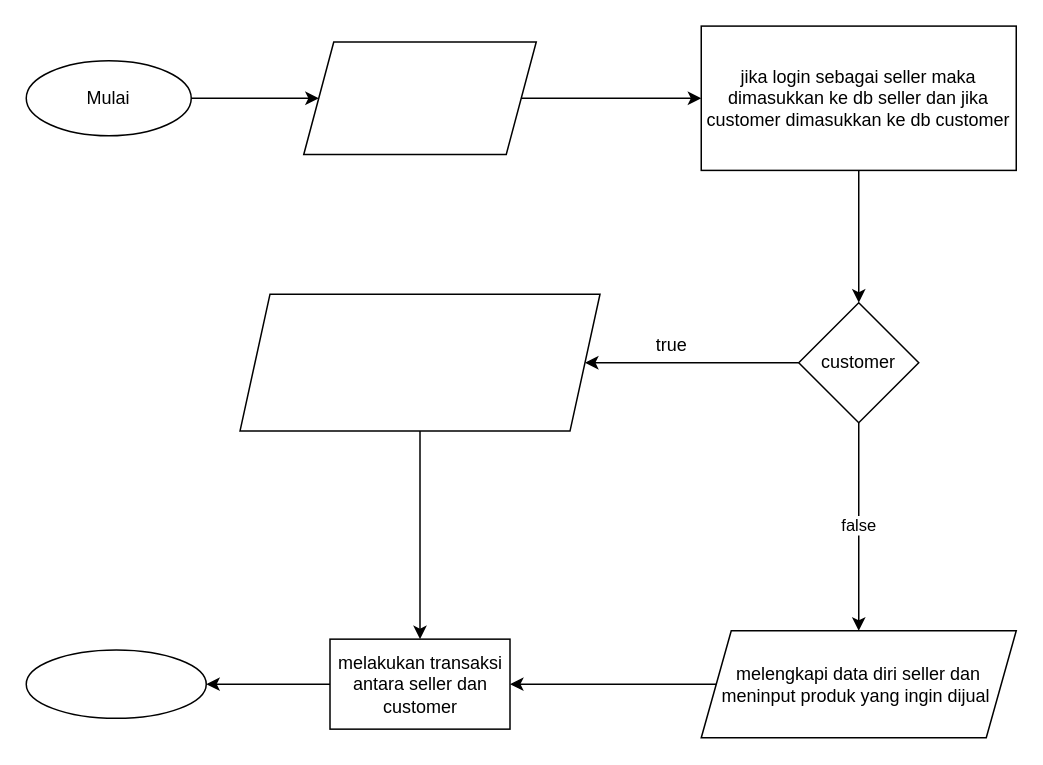
This 1043x765 diagram has some shape labels left out. Each missing label, with the centre of its shape:
"input username dan password (customer or seller)" belongs at point (419, 97).
"melengkapi data diri customer dan menginput produk yang ingin dibeli" belongs at point (419, 362).
"selesai" belongs at point (115, 683).
